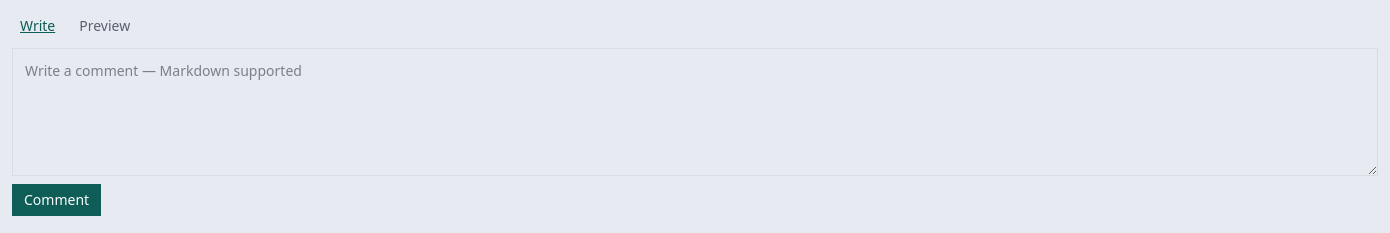
Test: CommentForm › renders the draft as Markdown once Preview is selected
Type "# Heading" into the text box labelled "comment" at (695, 112), box [12, 48, 1378, 176]
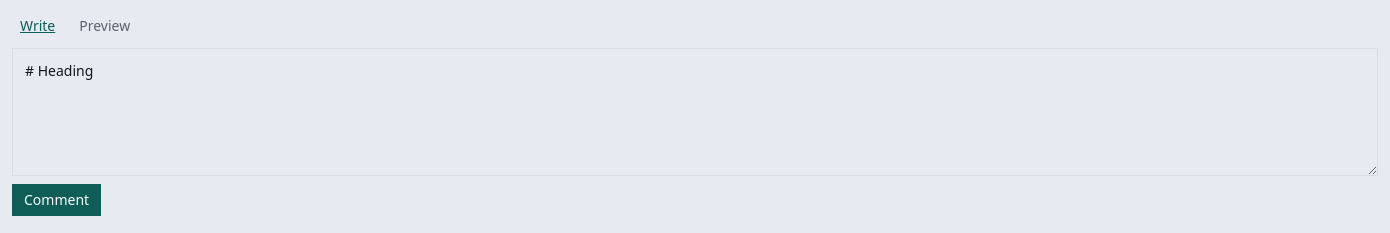
Click the tab "Preview" at (105, 26), box [71, 12, 138, 40]
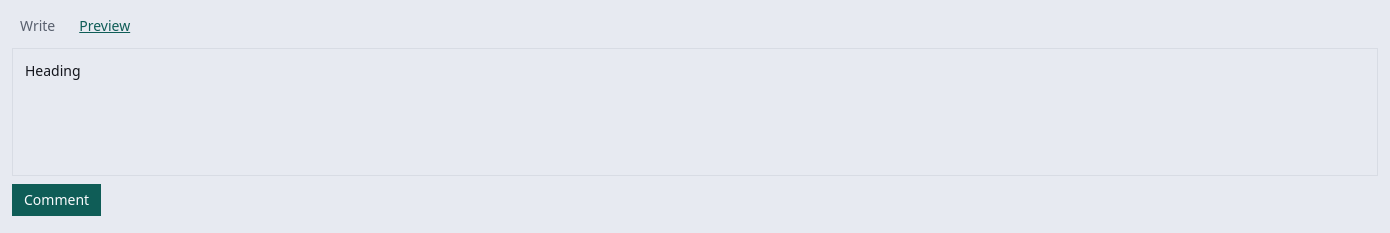
Now the heading "Heading" is shown, box [25, 61, 81, 80]
